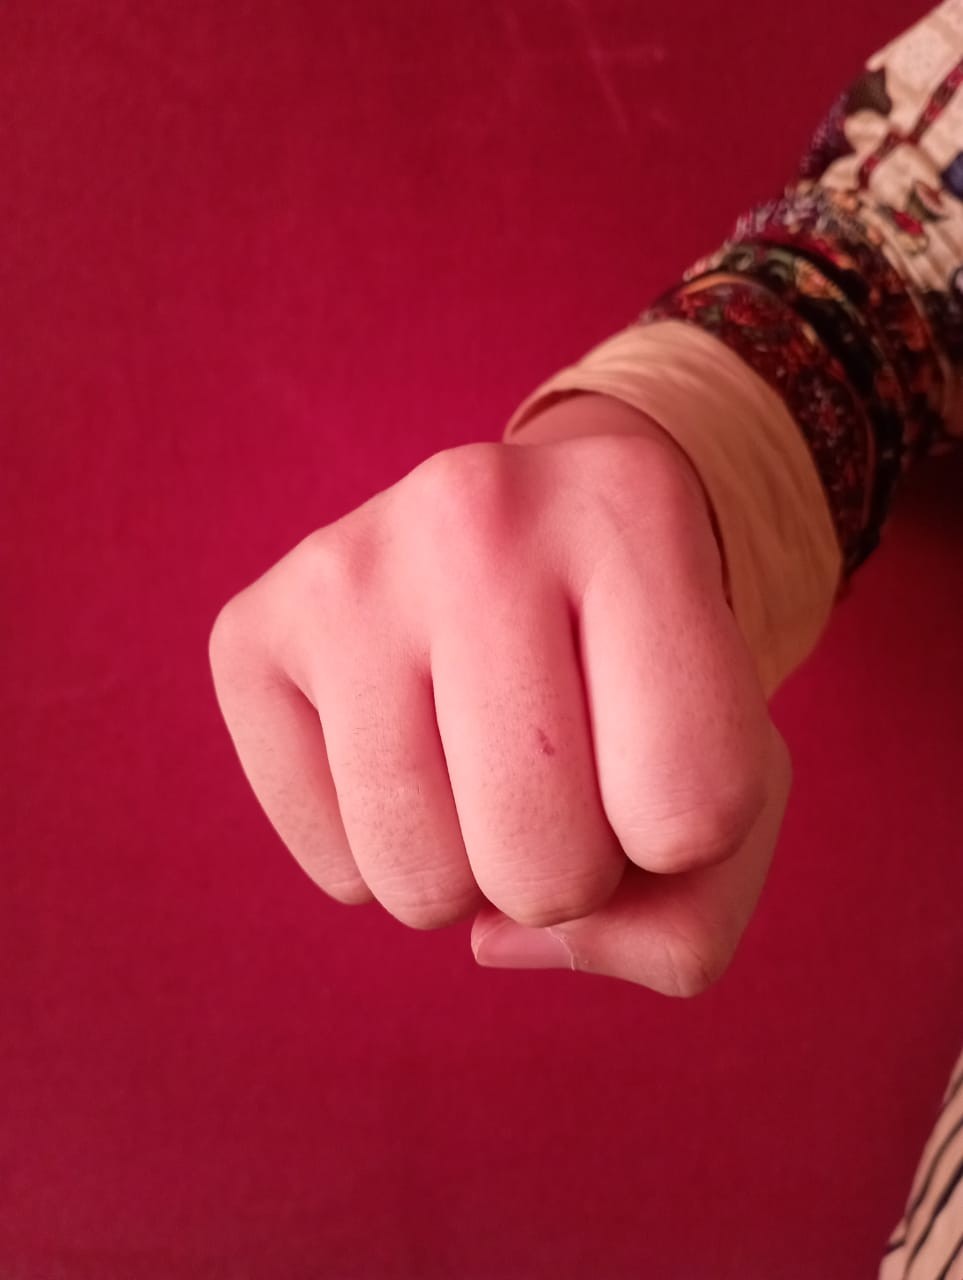BroCode: (172, 425, 805, 1021)
